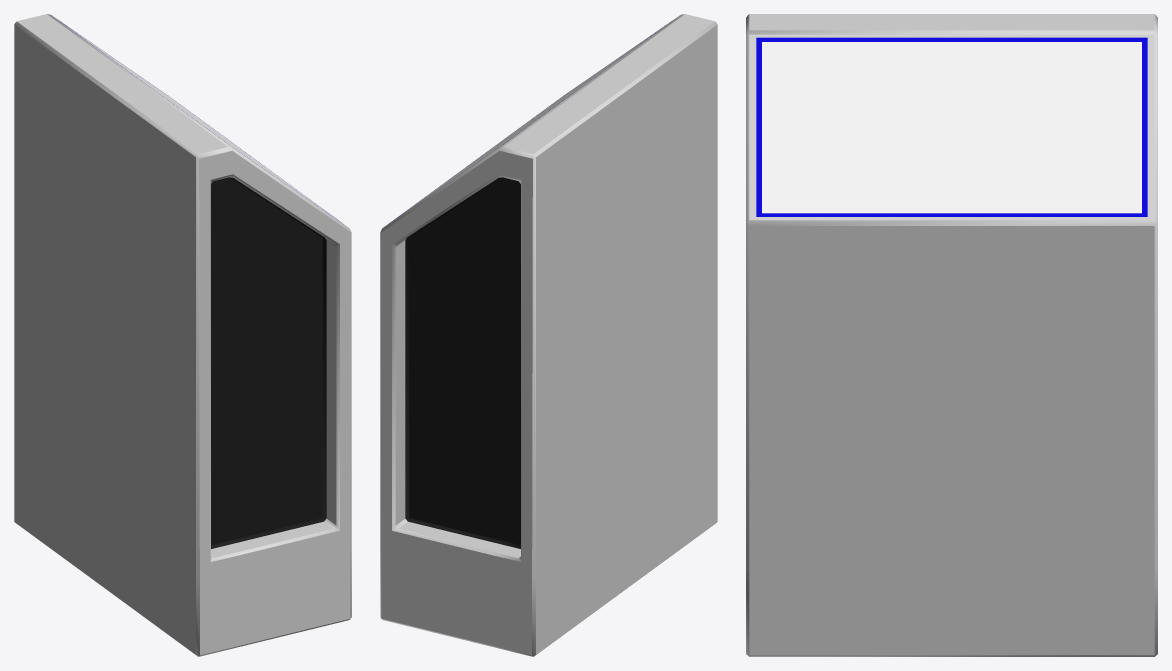
The model's file is Tutorial-Podest.fbx.
3 views of the same model, side by side, from view 1: azimuth 30°, elevation 25°; view 2: azimuth 150°, elevation 25°; view 3: azimuth 270°, elevation 25° (orthographic). The views are drawn at different scales.
Parts seen in each view (by area): view 1: Tutorial-Podest; view 2: Tutorial-Podest; view 3: Tutorial-Podest.
Boxes of the visible parts, x1=… form: Tutorial-Podest: x1=14, y1=14, x2=351, y2=656; Tutorial-Podest: x1=380, y1=14, x2=717, y2=656; Tutorial-Podest: x1=746, y1=14, x2=1157, y2=656.
Size of the model in its own units: 0.3995 by 0.8204 by 1.23.
